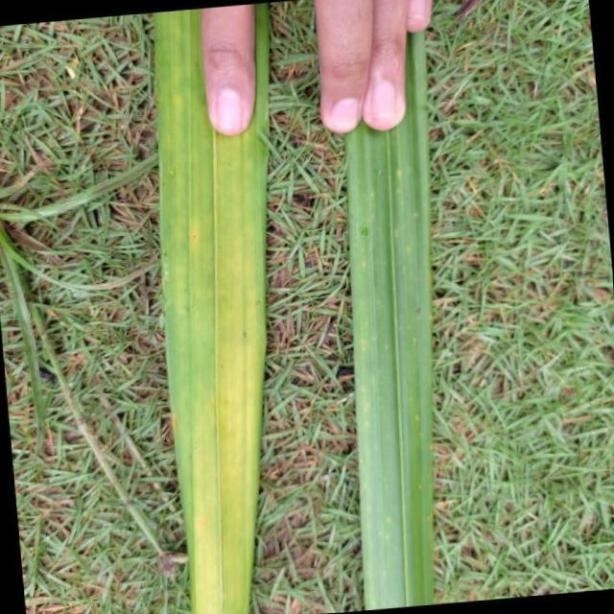nitrogen: (150, 0, 269, 614), (349, 144, 433, 614)
